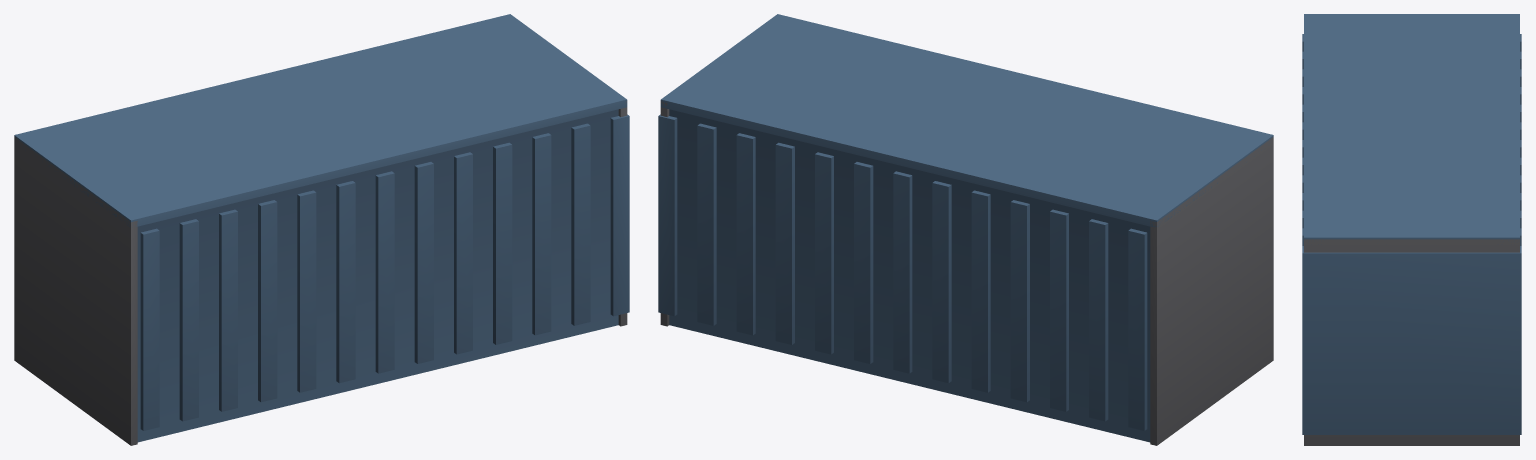
Rendered from box_blue.glb.
3 renders of one model, left to right at view 1: azimuth 30°, elevation 25°; view 2: azimuth 150°, elevation 25°; view 3: azimuth 270°, elevation 25°, orthographic. The views are drawn at different scales.
Parts seen in each view (by area): view 1: box_blue; view 2: box_blue; view 3: box_blue.
Part boxes in pixels (x1,y1,x2,y2): box_blue: (14, 14, 629, 445); box_blue: (658, 14, 1273, 445); box_blue: (1302, 14, 1521, 445).
Size of the model in its own units: 6.1 by 2.64 by 2.52.
